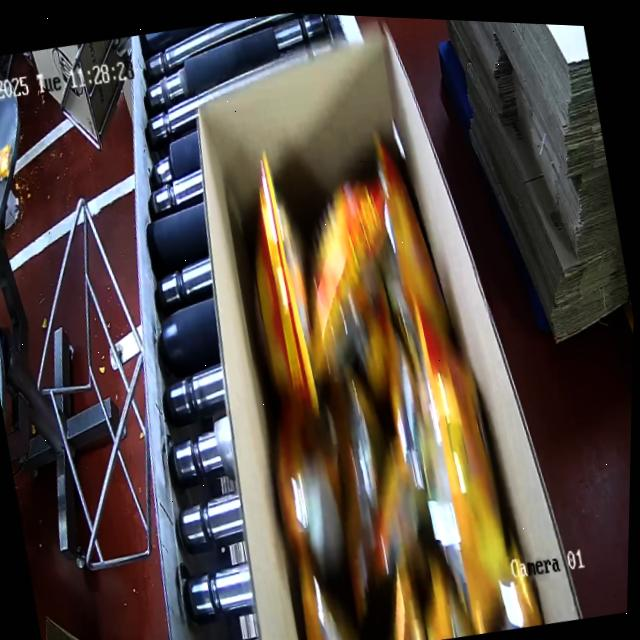FRENCH_CHEESE: (206, 147, 525, 640)
